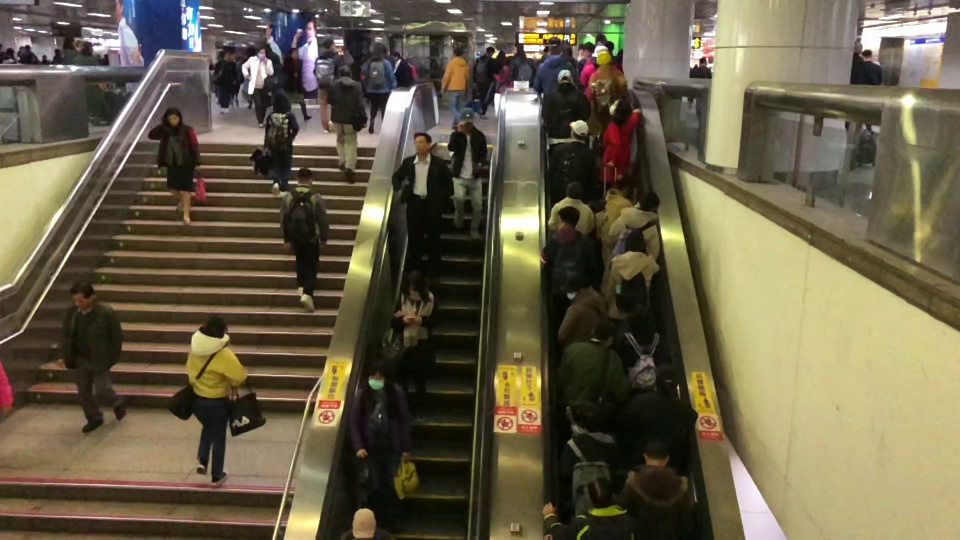person_head: (577, 402, 611, 433), (68, 277, 95, 310), (559, 268, 589, 297), (586, 475, 612, 507), (352, 507, 377, 540), (367, 358, 389, 390), (644, 440, 669, 467), (631, 306, 655, 333), (654, 364, 681, 388), (202, 315, 229, 338), (405, 271, 426, 299), (591, 321, 613, 346), (568, 118, 590, 141), (558, 205, 580, 228), (270, 89, 291, 113), (625, 230, 645, 254), (161, 105, 182, 127), (637, 190, 660, 210), (611, 100, 630, 124), (563, 179, 584, 200), (413, 131, 431, 154), (611, 76, 630, 96), (623, 178, 642, 198), (296, 166, 313, 188), (459, 107, 474, 128), (557, 69, 573, 85), (372, 43, 387, 58), (596, 50, 610, 66), (582, 41, 595, 57), (337, 64, 354, 76), (81, 42, 94, 56), (592, 46, 608, 57), (255, 47, 269, 59), (511, 43, 523, 56), (321, 37, 336, 47), (549, 44, 563, 54), (62, 38, 74, 49), (861, 49, 873, 60), (288, 46, 298, 58), (698, 55, 707, 67), (223, 51, 233, 61), (454, 45, 462, 57), (485, 45, 494, 55), (5, 46, 12, 55)
person_vbox: (53, 277, 127, 434), (184, 314, 248, 486), (349, 357, 411, 528), (393, 131, 454, 286), (278, 166, 331, 314), (621, 439, 695, 539), (389, 270, 437, 424), (559, 400, 620, 517), (628, 362, 698, 460), (148, 106, 201, 227), (600, 190, 660, 294), (542, 474, 634, 539), (557, 320, 624, 403), (448, 107, 489, 241), (602, 230, 660, 324), (326, 63, 368, 180), (615, 305, 671, 392), (538, 206, 593, 294), (595, 177, 643, 263), (548, 119, 596, 204), (264, 90, 300, 198), (541, 69, 590, 146), (557, 268, 607, 343), (602, 99, 640, 188), (587, 51, 627, 132), (361, 43, 395, 133), (313, 36, 342, 135), (547, 179, 596, 236), (74, 44, 107, 124), (241, 47, 274, 127), (440, 44, 471, 123), (855, 50, 882, 137), (283, 48, 313, 121), (535, 43, 575, 94), (582, 46, 621, 98), (474, 46, 498, 119), (218, 51, 237, 116), (693, 59, 711, 119), (508, 45, 531, 82), (394, 55, 411, 85), (63, 41, 76, 63), (5, 49, 15, 63)
